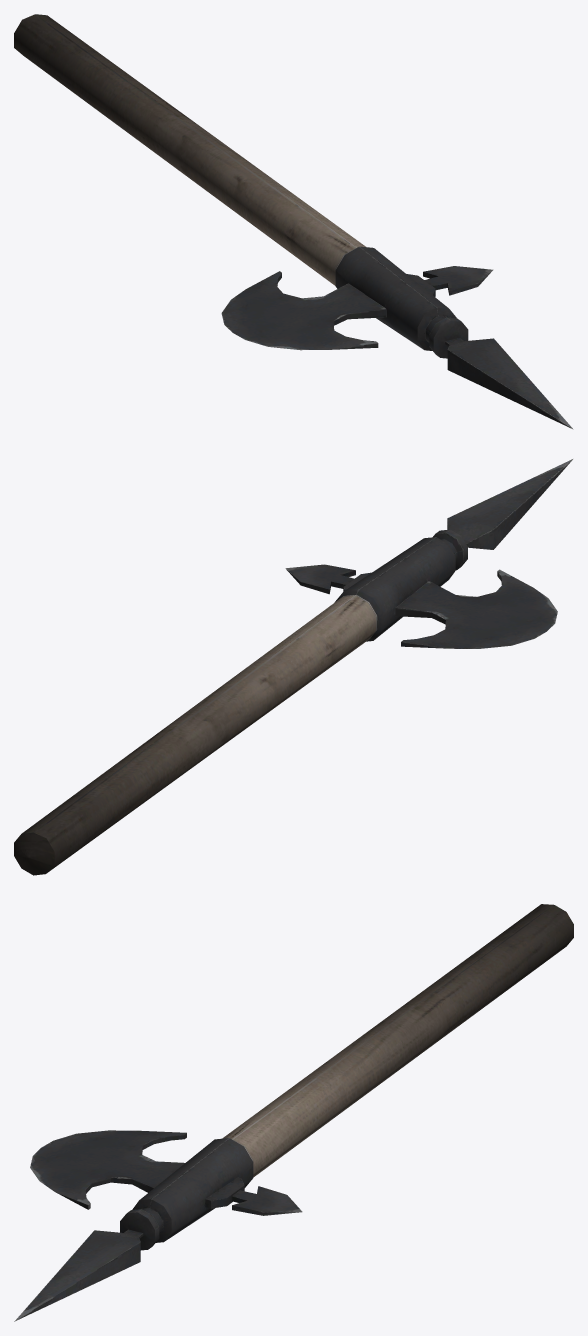
Rendered from merchant_debris_weapon001.fbx.
3 renders of one model, top to bottom at view 1: azimuth 30°, elevation 25°; view 2: azimuth 150°, elevation 25°; view 3: azimuth 330°, elevation 25°, orthographic.
Visible parts, largest first — view 1: merchant_debris_weapon001; view 2: merchant_debris_weapon001; view 3: merchant_debris_weapon001.
Boxes of the visible parts, x1,y1,x2,y2 form: merchant_debris_weapon001: [14, 14, 573, 429]; merchant_debris_weapon001: [14, 459, 572, 875]; merchant_debris_weapon001: [14, 904, 573, 1321].
Bounding box in the file's own units: 57.66 × 11.06 × 208.
